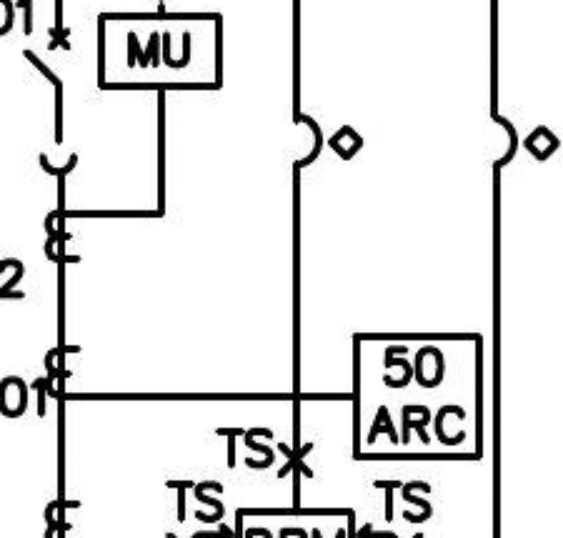MU: (98, 11, 223, 92)
